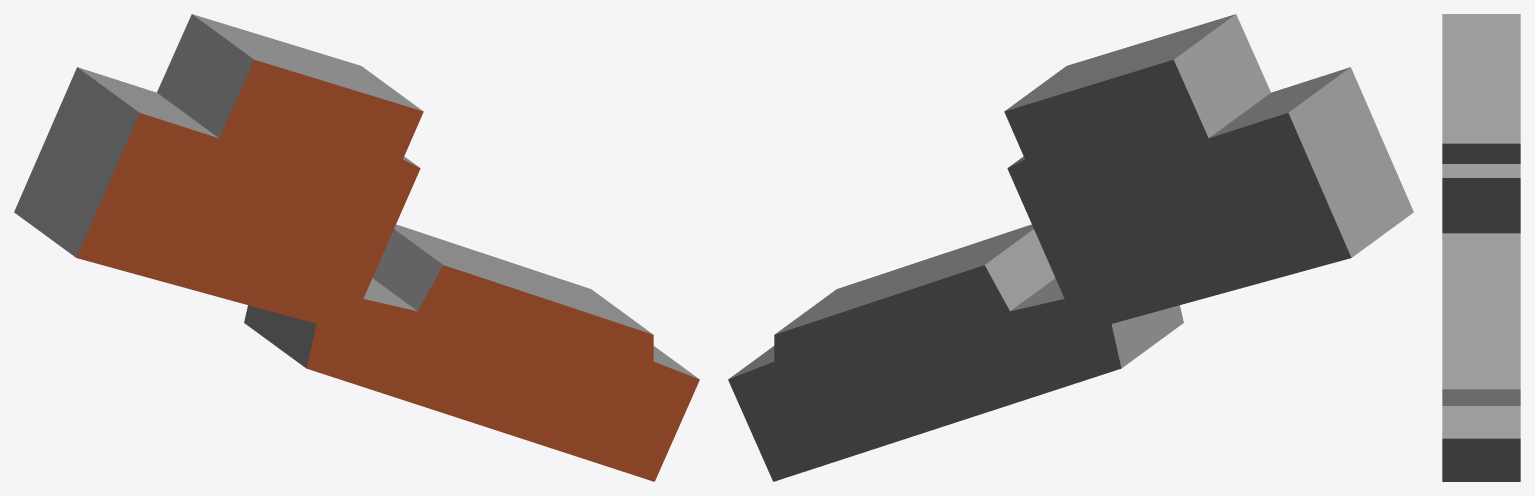
Rendered from construction_6816_assumed_A_Casa_h6m.obj.
The picture shows the model from 3 angles, left to right: view 1: azimuth 30°, elevation 25°; view 2: azimuth 150°, elevation 25°; view 3: azimuth 270°, elevation 25°; orthographic projection. The views are drawn at different scales.
Parts seen in each view (by area): view 1: construction_6816_assumed_A_Casa; view 2: construction_6816_assumed_A_Casa; view 3: construction_6816_assumed_A_Casa.
Part boxes in pixels (x1=…): construction_6816_assumed_A_Casa: x1=14, y1=14, x2=699, y2=481; construction_6816_assumed_A_Casa: x1=728, y1=14, x2=1413, y2=481; construction_6816_assumed_A_Casa: x1=1442, y1=14, x2=1520, y2=481.
Size of the model in its own units: 34.59 by 27.57 by 6.
